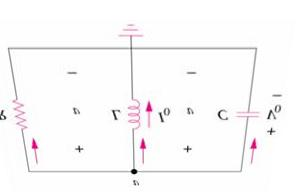inductor: (124, 89, 142, 136)
